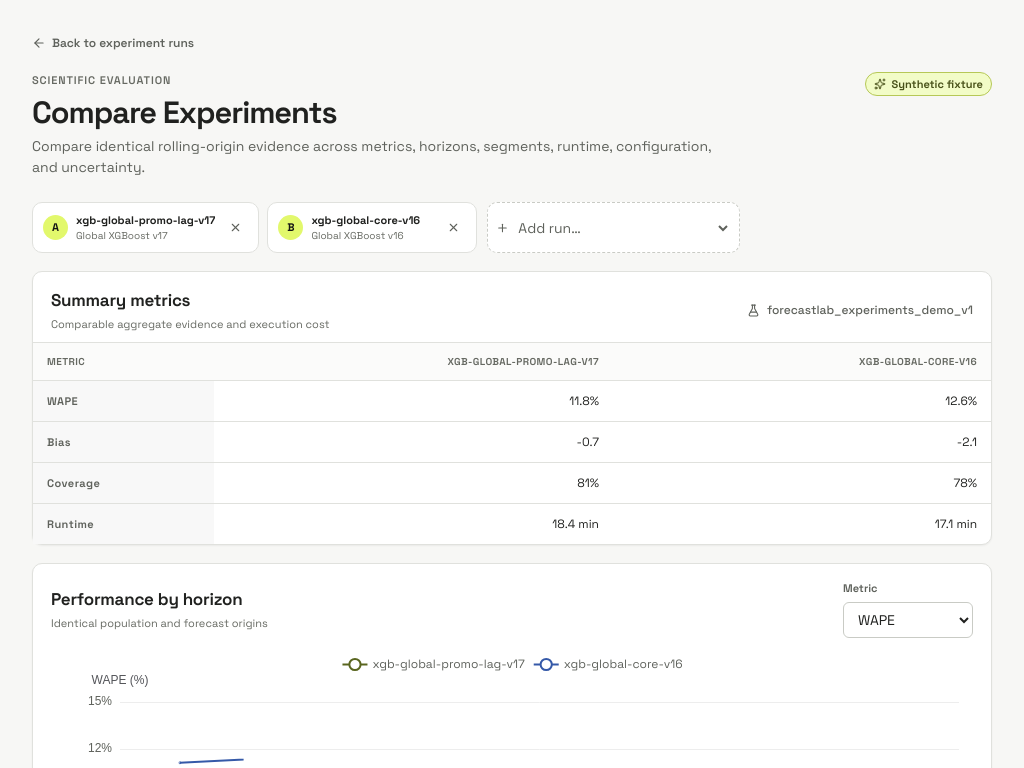
it: ExperimentComparisonPage › preserves metric and run changes in the URL
expect the heading "Compare Experiments" is shown: met, box [32,92,336,132]
Select "Coverage" in the dropdown labelled "Metric" at [908, 620], box [843,602,973,638]
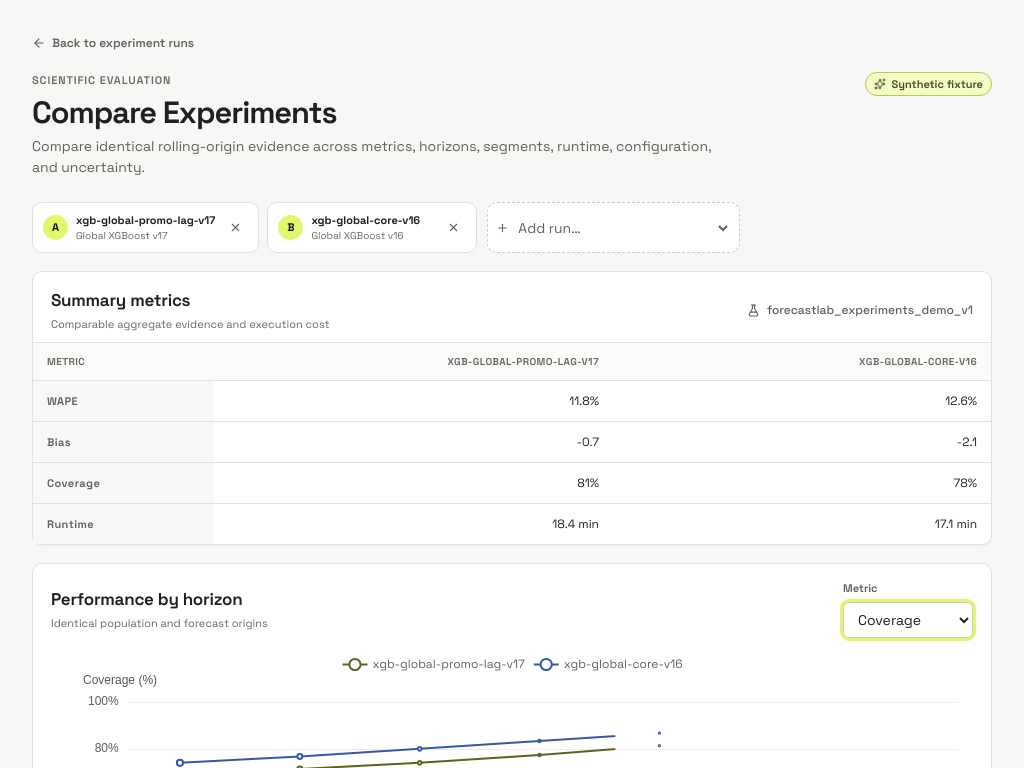
Select "prophet-holiday-priors-v08" in the dropdown named "Add experiment" at [623, 228], box [514,207,731,249]
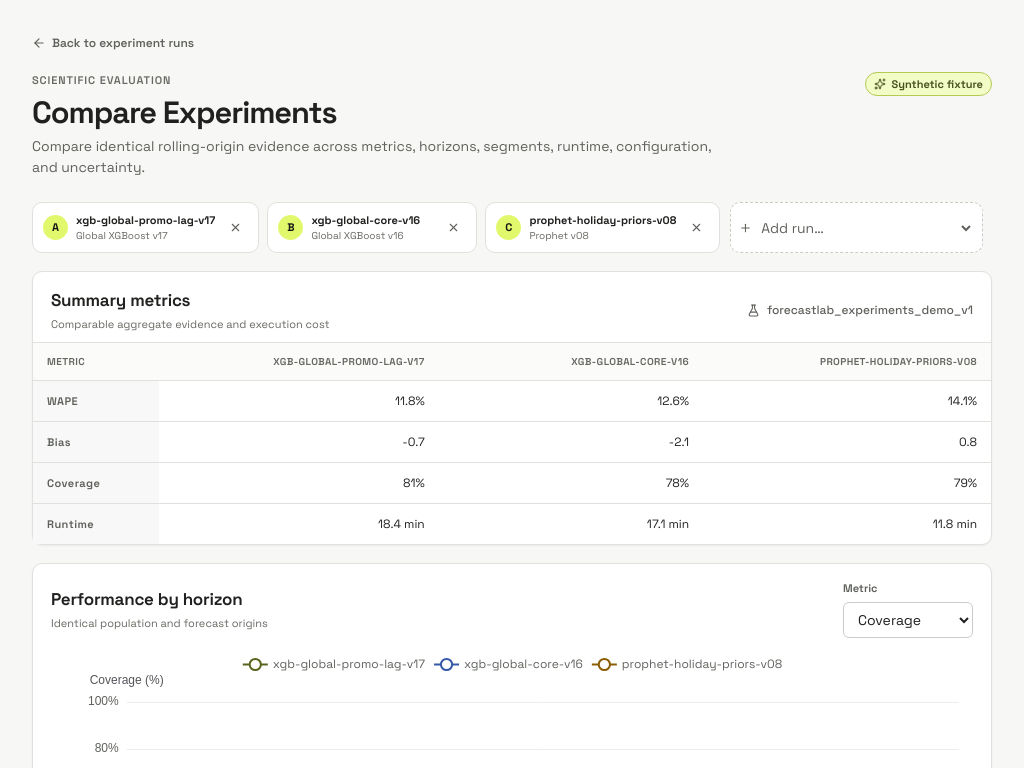
expect the text "prophet-holiday-priors-v08" is shown: met, box [529,212,676,228]
